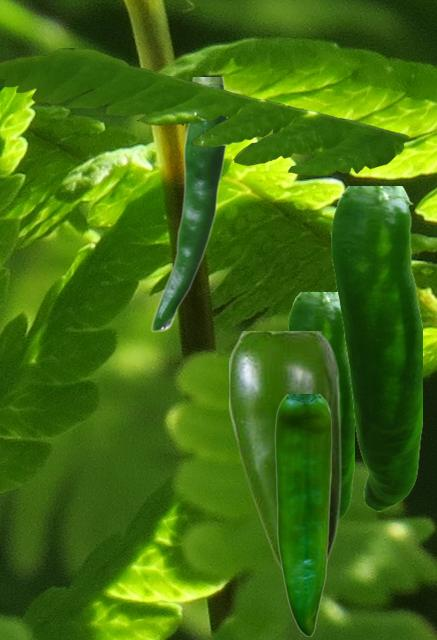green_chili: (331, 186, 421, 510), (229, 331, 340, 572), (150, 77, 226, 331), (288, 292, 353, 519), (274, 394, 331, 635)
